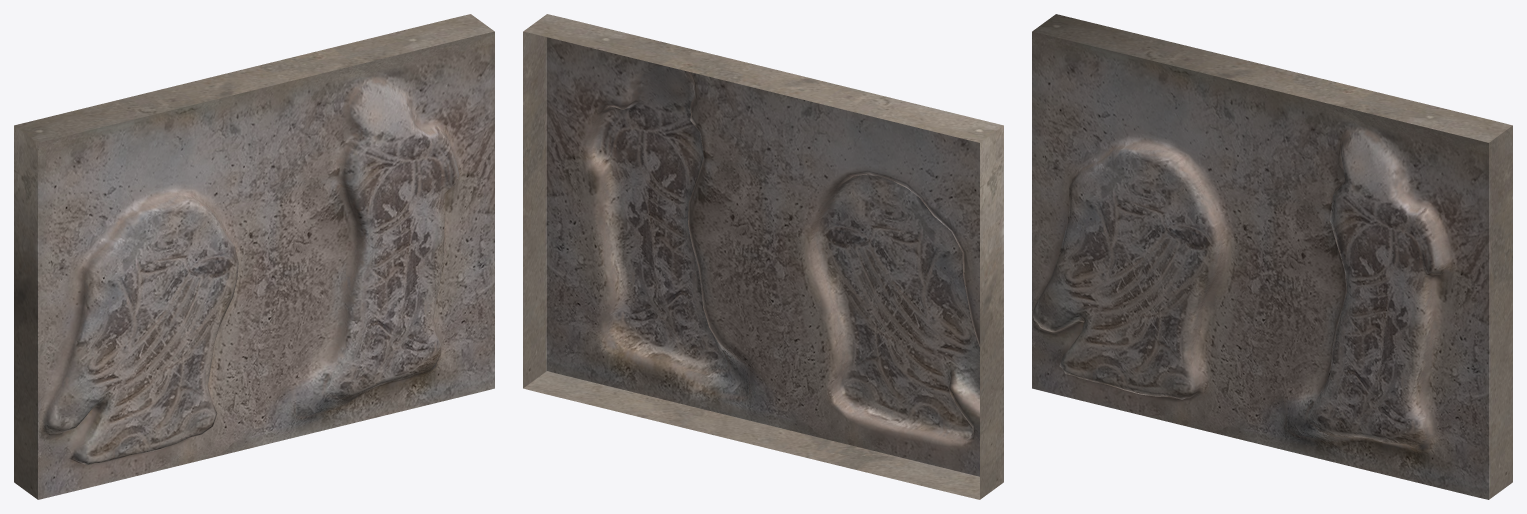
The picture shows the model from 3 angles, left to right: view 1: azimuth 30°, elevation 25°; view 2: azimuth 150°, elevation 25°; view 3: azimuth 330°, elevation 25°; orthographic projection.
Parts seen in each view (by area): view 1: F5Left; view 2: F5Left; view 3: F5Left.
Boxes of the visible parts, x1,y1,x2,y2 form: F5Left: (14,14,494,499); F5Left: (523,14,1003,499); F5Left: (1032,14,1512,499).
Size of the model in its own units: 1.1 by 0.8234 by 0.1387.
Materials: 1 (1 with a texture image).
